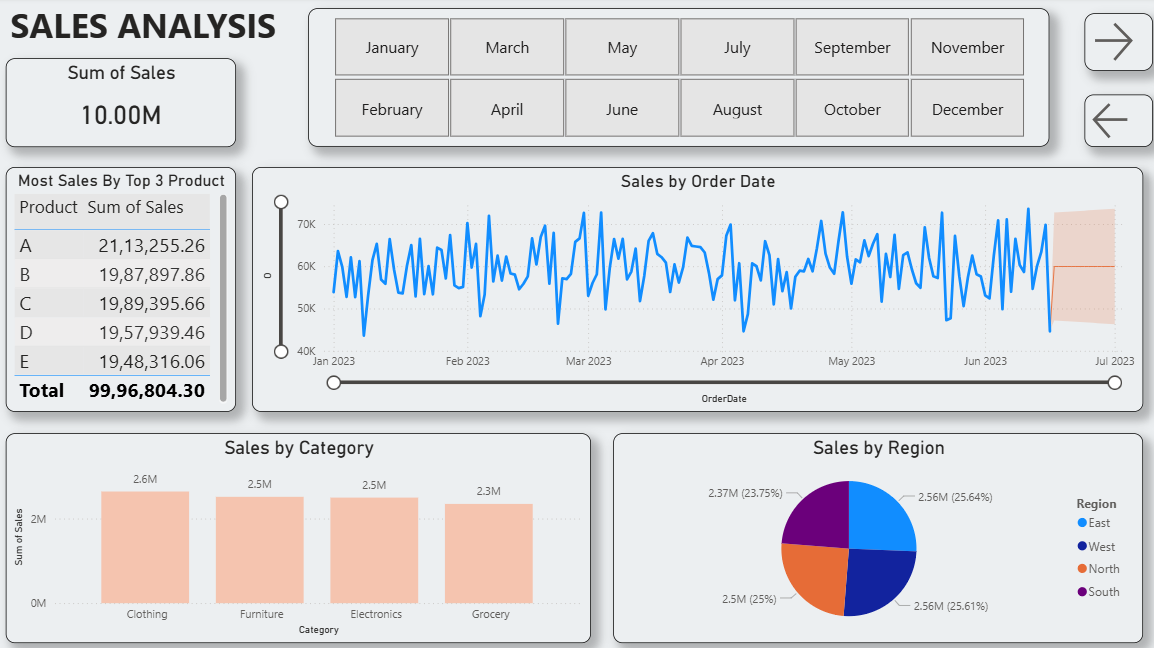

This screenshot's page, from the dashboard's own definition file:
{"tool":"powerbi","page":{"name":"Page 2","canvas":[1280,720],"ordinal":1},"visuals":[{"type":"tableEx","title":"Most Sales By Top 3 Product","fields":{"Values":["Cleaned Data.Product","Sum(Cleaned Data.Sales)"]},"box":[9.6,186.6,252.5,269],"z":0},{"type":"clusteredColumnChart","title":"Sales by Category","fields":{"Category":["Cleaned Data.Category"],"Y":["Sum(Cleaned Data.Sales)"]},"box":[9.6,478.9,642.2,230.5],"z":1000},{"type":"pieChart","title":"Sales by Region","fields":{"Category":["Cleaned Data.Region"],"Y":["Sum(Cleaned Data.Sales)"]},"box":[676.5,478.9,581.8,230.5],"z":2000},{"type":"textbox","box":[9.6,0,321.1,67.2],"z":3000},{"type":"lineChart","title":"Sales by Order Date","fields":{"Y":["Sum(Cleaned Data.Sales)"],"Category":["Cleaned Data.OrderDate"]},"box":[279.9,186.6,978.4,269],"z":4000},{"type":"slicer","fields":{"Values":["Cleaned Data.OrderDate.Variation.Date Hierarchy.Month"]},"box":[341.7,12.3,813.7,152.3],"z":5000},{"type":"actionButton","box":[1193.8,17.8,75.5,63.1],"z":6000},{"type":"card","title":"Sum of Sales","fields":{"Values":["Sum(Cleaned Data.Sales)"]},"box":[9.6,67.2,252.5,97.4],"z":7000},{"type":"actionButton","box":[1193.8,107,75.5,57.6],"z":8000}]}

Visuals, with their boxes in screenshot pixels (x1, y1, x2, y2), scaled from the page's 1280x720 canvas onto the 1154x648 screenshot:
"Most Sales By Top 3 Product" tableEx: 9, 168, 236, 410
"Sales by Category" clusteredColumnChart: 9, 431, 588, 638
"Sales by Region" pieChart: 610, 431, 1134, 638
textbox: 9, 0, 298, 60
"Sales by Order Date" lineChart: 252, 168, 1134, 410
slicer - Cleaned Data.OrderDate.Variation.Date Hierarchy.Month: 308, 11, 1042, 148
actionButton: 1076, 16, 1144, 73
"Sum of Sales" card: 9, 60, 236, 148
actionButton: 1076, 96, 1144, 148
